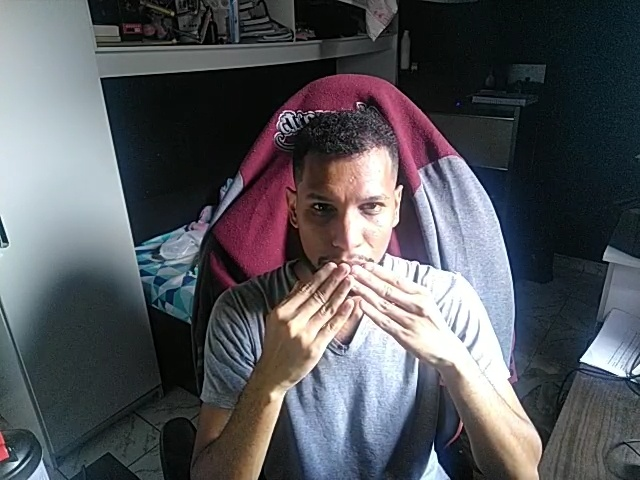obrigado: (249, 260, 452, 379)
